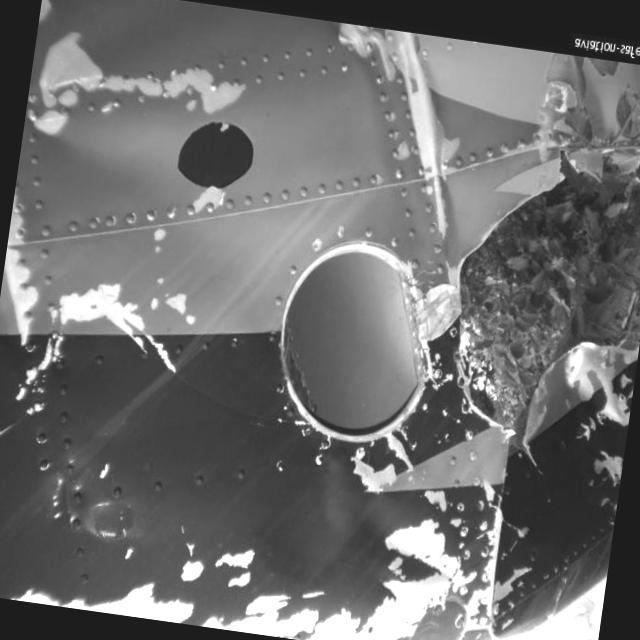dent: (266, 450, 402, 596), (25, 100, 189, 206)
